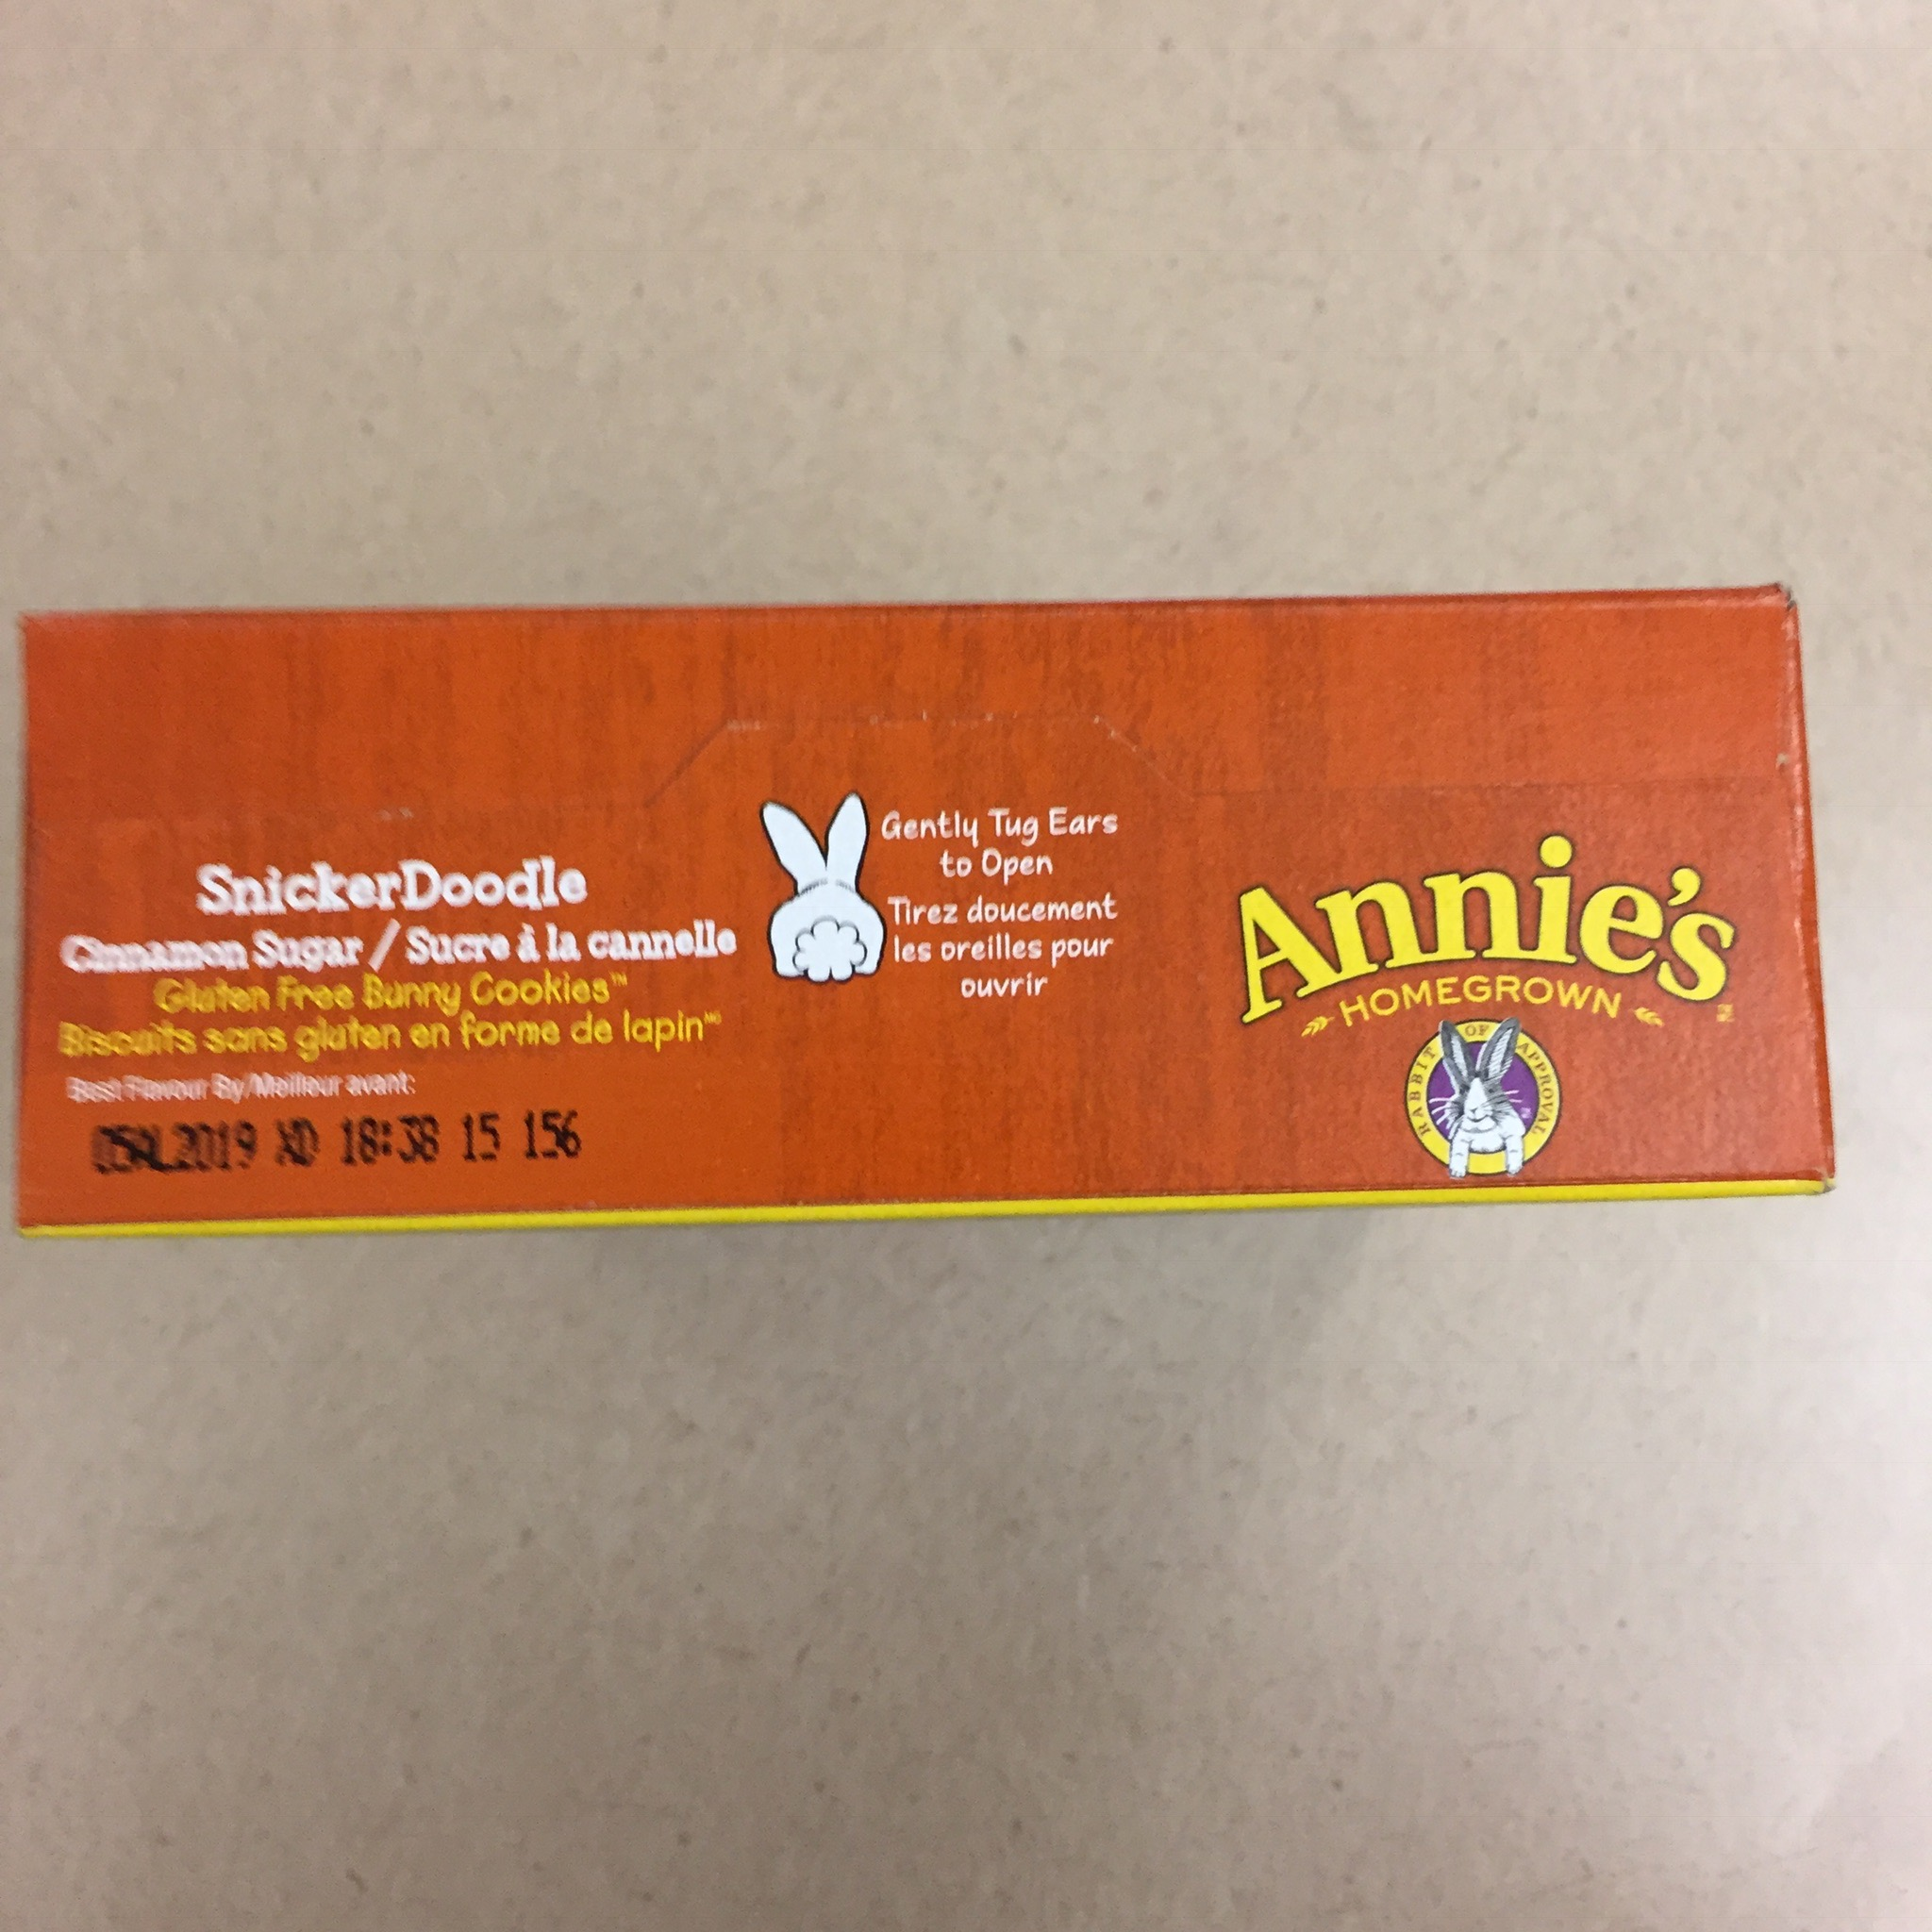annies_snickerdoodle_cinnamon_sugar: (9, 577, 1840, 1242)
